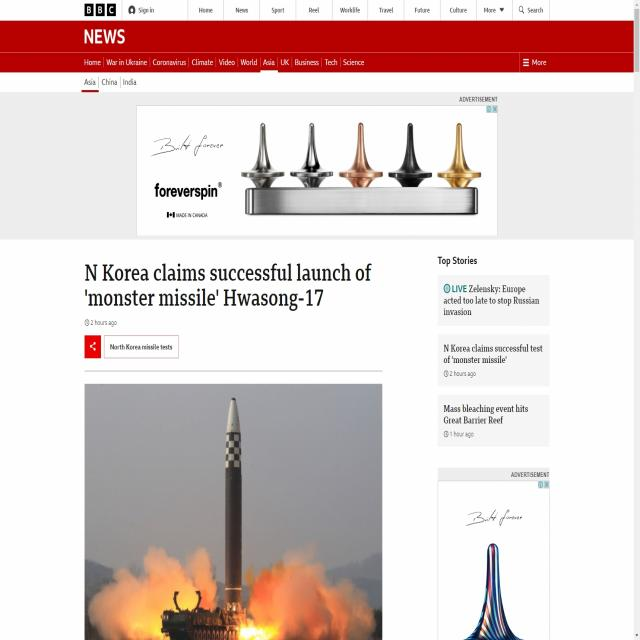menu-panel: (82, 49, 368, 93)
side-panel: (437, 275, 551, 449)
